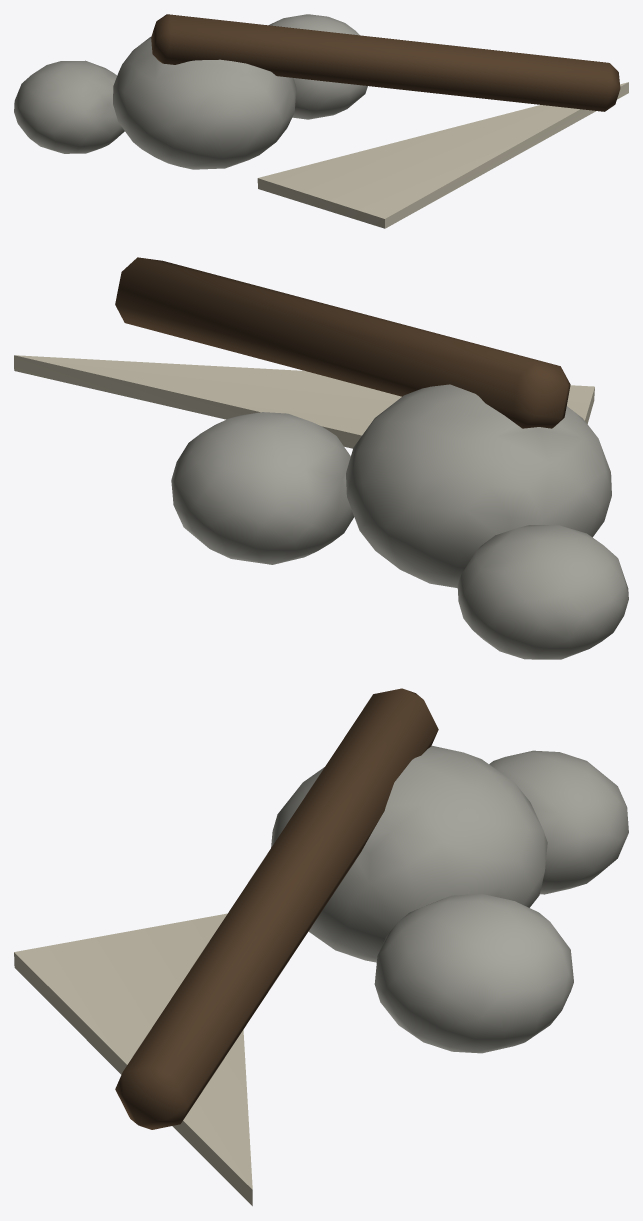
The model's file is kite_pennant_c_lod1.glb.
3 renders of one model, top to bottom at view 1: azimuth 30°, elevation 25°; view 2: azimuth 150°, elevation 25°; view 3: azimuth 270°, elevation 25°, orthographic. The views are drawn at different scales.
Visible parts, largest first — view 1: Surface.001; view 2: Surface.001; view 3: Surface.001.
Part boxes in pixels (box(x1,y1,x2,y2)): Surface.001: box(14, 14, 628, 228); Surface.001: box(14, 257, 628, 659); Surface.001: box(14, 688, 628, 1206).
Size of the model in its own units: 2.05 by 0.5922 by 1.4.
